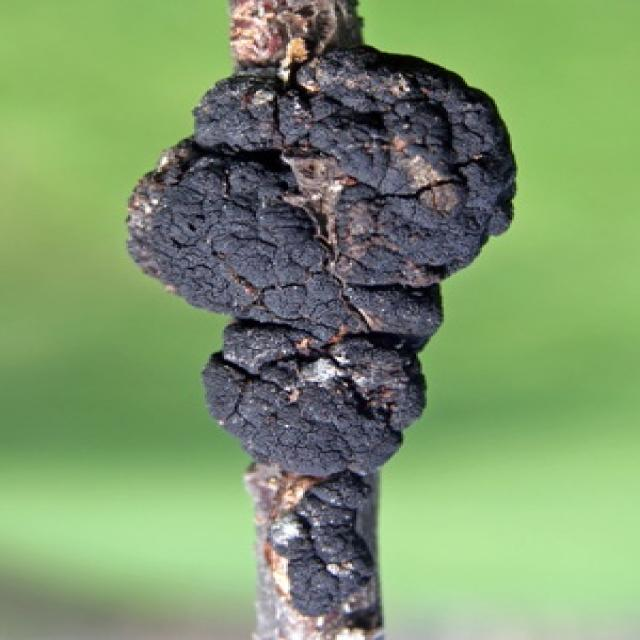Black_knot: (121, 41, 518, 478)
